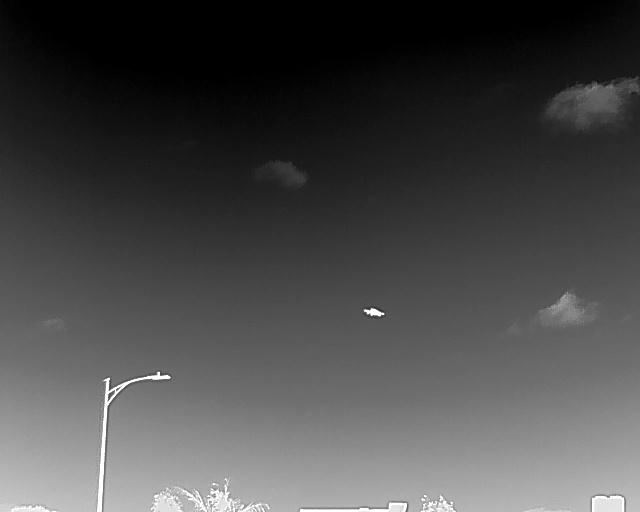fpv-drone: (363, 307, 385, 318)
